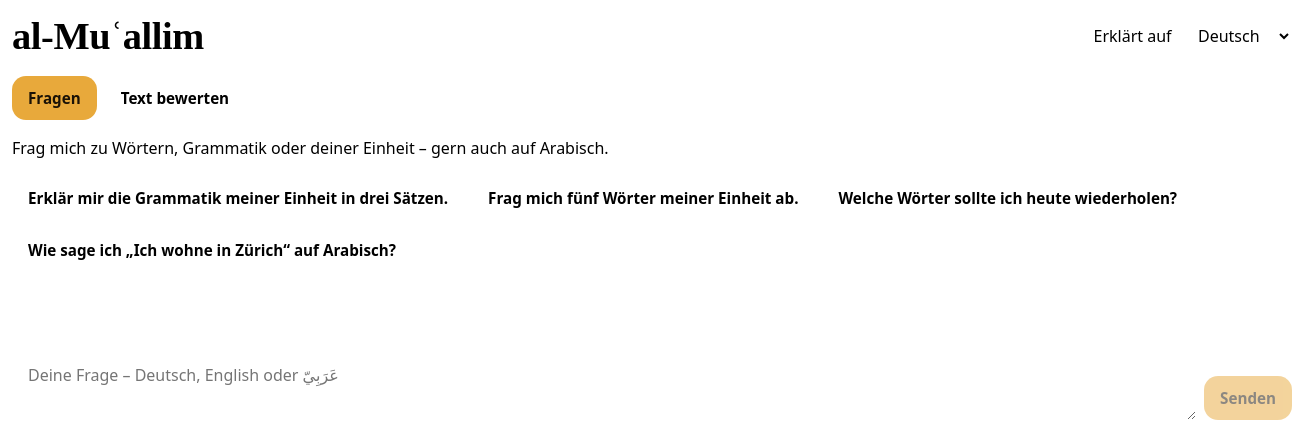
al-Muʿallim page › shows quota and outage messages, and a server without AI
The width and height of the screenshot is (1304, 437).
Type "Hallo" into the text box named "Deine Nachricht an al-Muʿallim" at (604, 386), box [12,352,1196,420]
Then press Enter
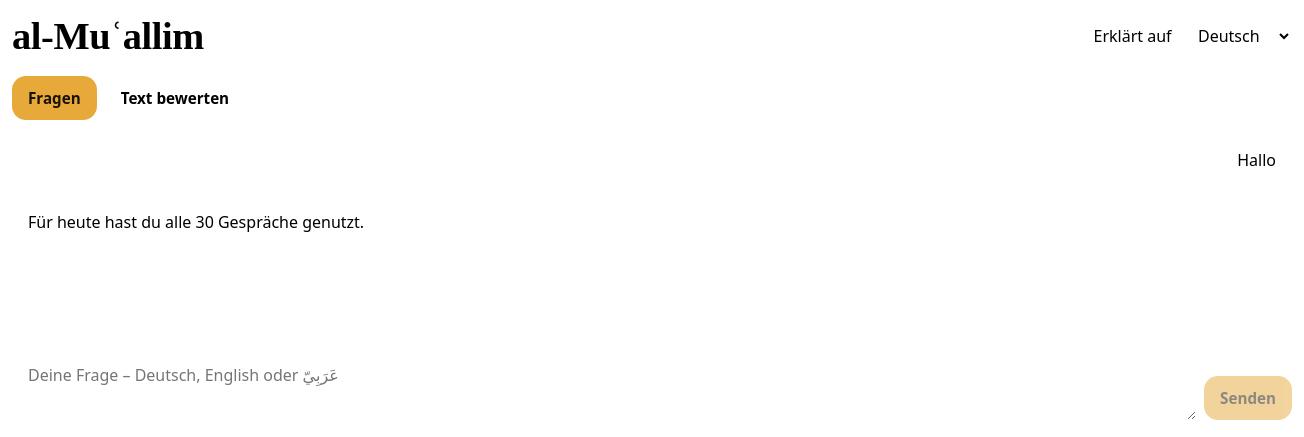
Expected: the text "Für heute hast du alle 30 Gespräche genutzt." is shown, [28,211,364,233]
